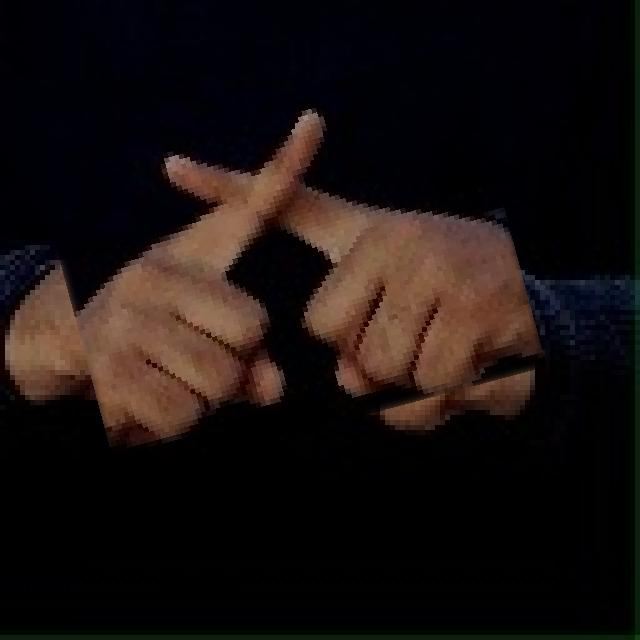X: (50, 72, 529, 456)
